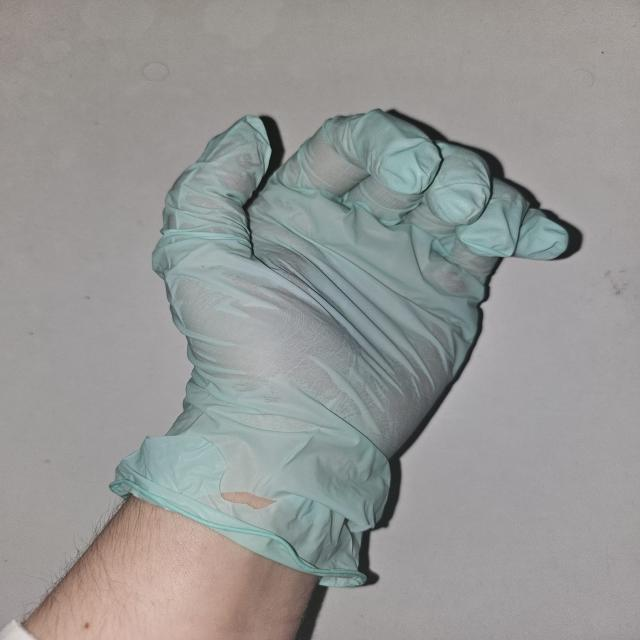gloves_damaged: (109, 107, 572, 590)
